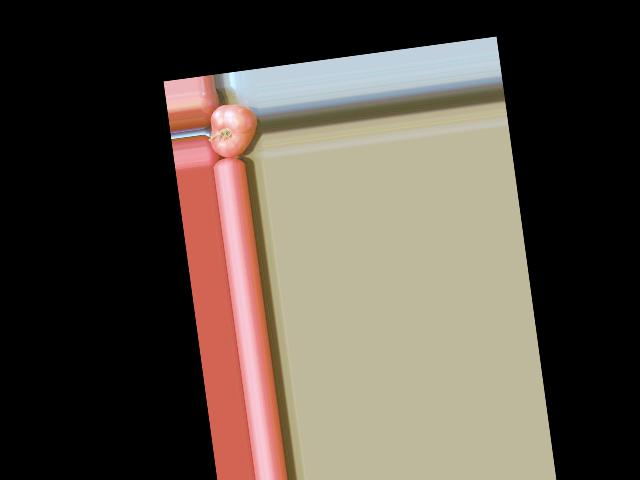tomato: (206, 101, 261, 159)
